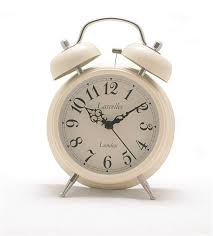alarm_clock: (44, 15, 172, 198)
